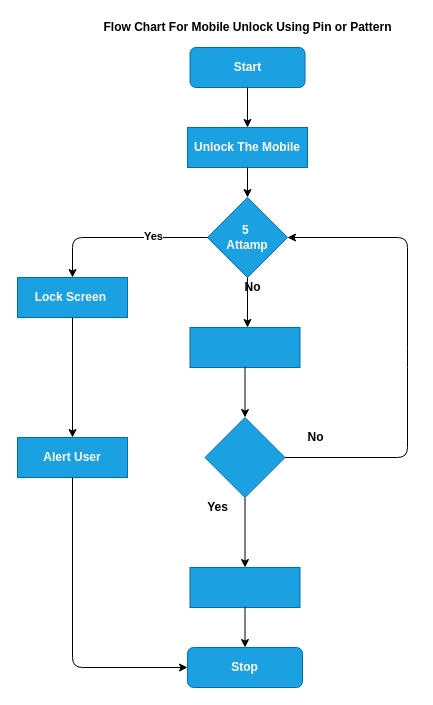
Some shapes in this 433 by 705 pixel diagram are drawn without their labels. The shapes that lost their labels are listed below. From the top down, each one's box as (x1, y1, x2, y2) in pixels, then its label:
(189, 326, 300, 368): Enter Pin
(204, 416, 285, 498): Authorize
(189, 566, 300, 608): Grant Success
